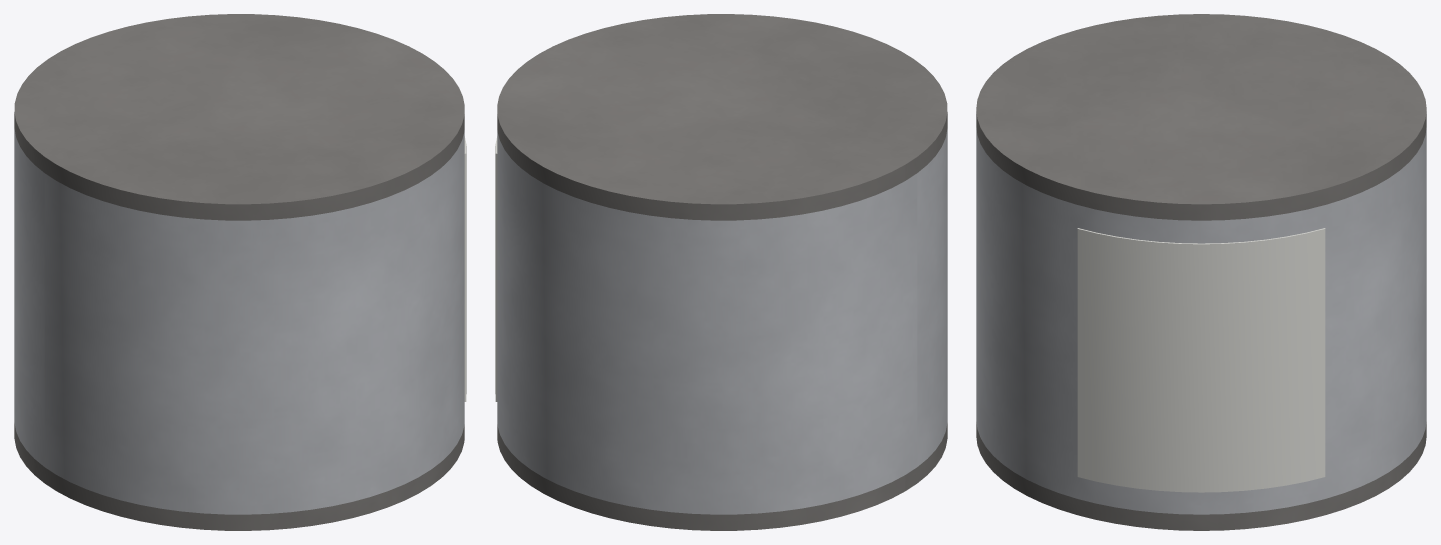
Rendered from sci03_science_bay_s.glb.
3 renders of one model, left to right at view 1: azimuth 30°, elevation 25°; view 2: azimuth 150°, elevation 25°; view 3: azimuth 270°, elevation 25°, orthographic.
Visible parts, largest first — view 1: shell, end_rings, door; view 2: shell, end_rings, door; view 3: end_rings, shell, door.
Boxes of the visible parts, <box> form: shell: <box>14,129,464,514</box>; end_rings: <box>14,14,464,530</box>; door: <box>464,136,466,401</box>; shell: <box>497,129,947,514</box>; end_rings: <box>497,14,947,530</box>; door: <box>495,136,497,401</box>; end_rings: <box>976,14,1426,530</box>; shell: <box>976,128,1426,514</box>; door: <box>1077,228,1325,492</box>.
Bounding box in the file's own units: 1.25 × 1 × 1.25.
5 materials, 3 textured.
